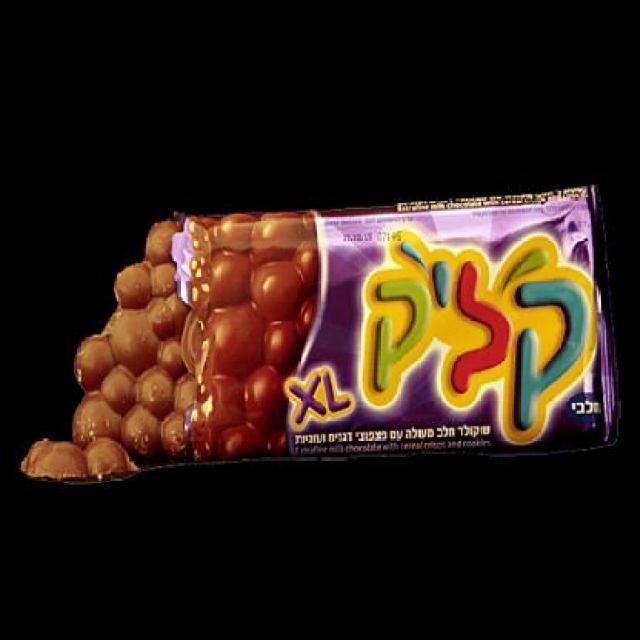Chocolate bar: (180, 178, 620, 460)
Chocolate bar packaged: (22, 210, 181, 476)
